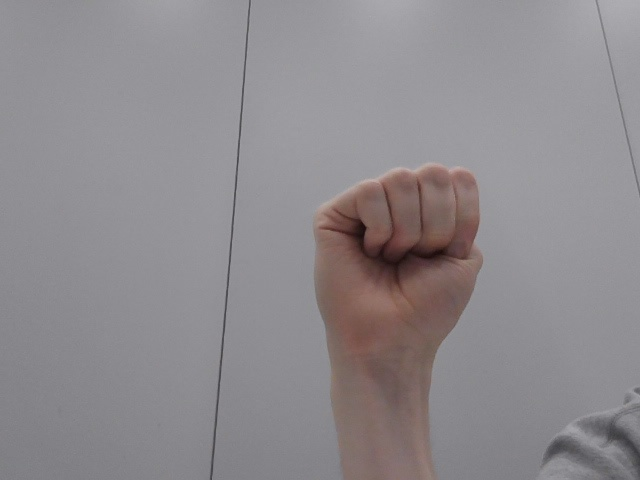down: (282, 146, 486, 351)
